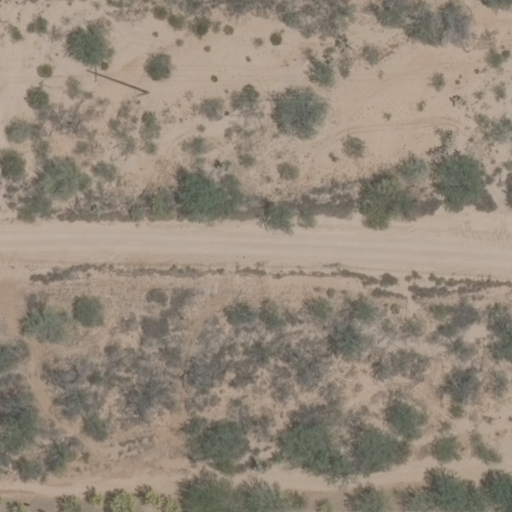DT: (86, 68, 148, 95)
